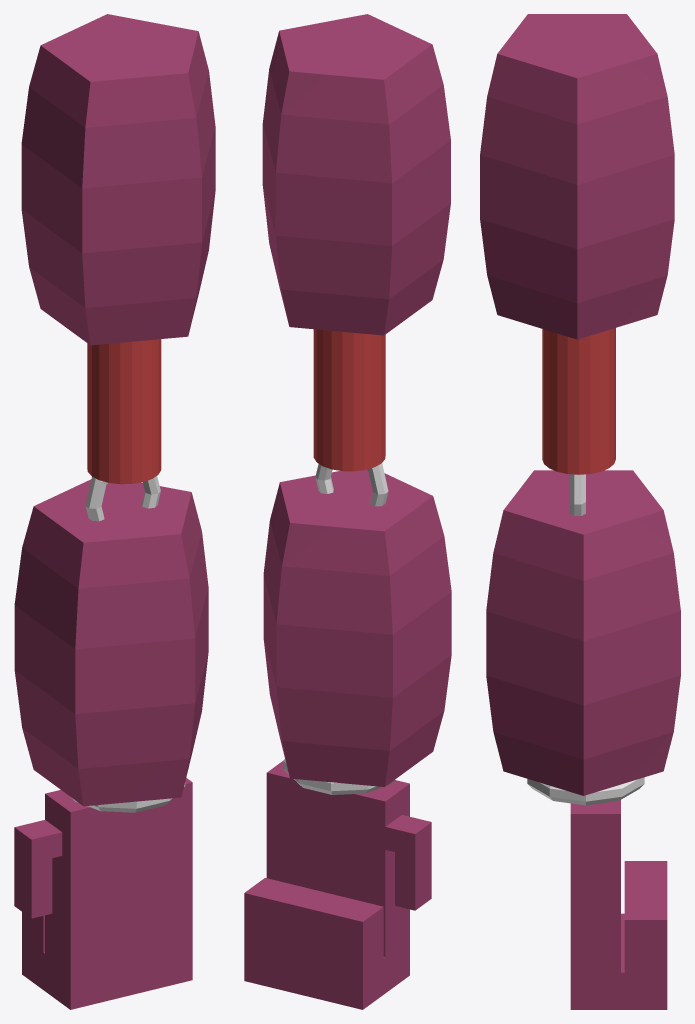
The model's file is Arm.fbx.
The picture shows the model from 3 angles, left to right: view 1: azimuth 30°, elevation 25°; view 2: azimuth 150°, elevation 25°; view 3: azimuth 270°, elevation 25°; orthographic projection. The views are drawn at different scales.
Parts seen in each view (by area): view 1: polySurface374; view 2: polySurface374; view 3: polySurface374.
Part boxes in pixels (x1,y1,x2,y2): polySurface374: (14,14,215,1009); polySurface374: (244,14,451,1009); polySurface374: (480,14,680,1009).
Bounding box in the file's own units: 0.3611 × 1.82 × 0.354.
